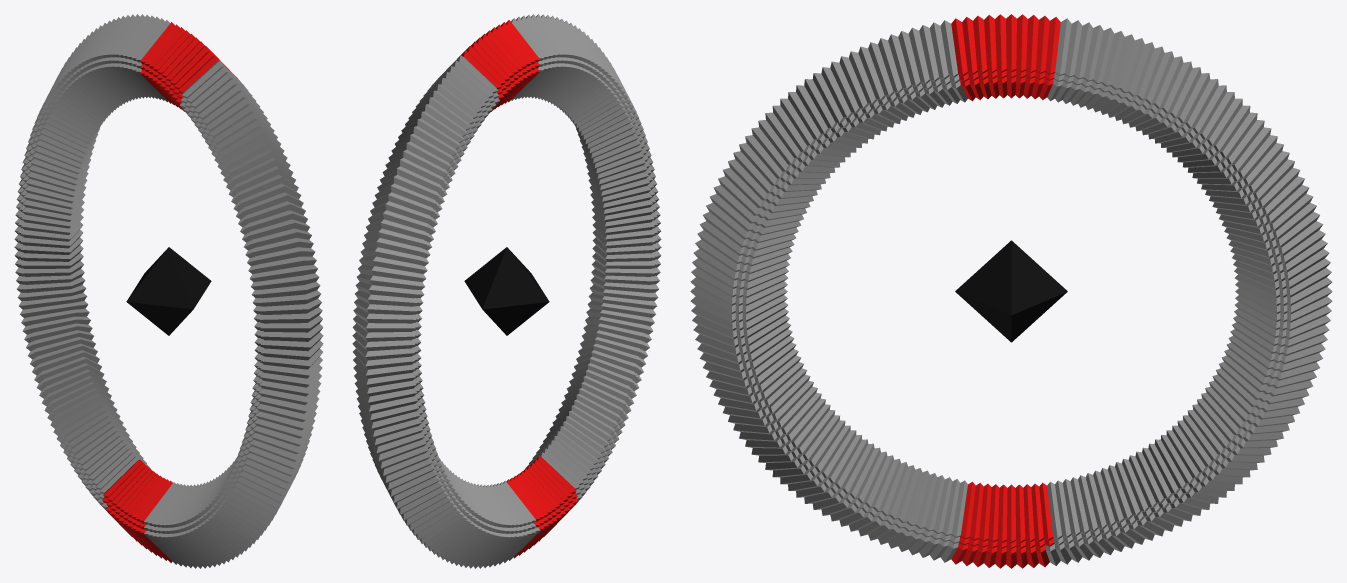
Rendered from local_feasible_centers.obj.
3 views of the same model, side by side, from view 1: azimuth 30°, elevation 25°; view 2: azimuth 150°, elevation 25°; view 3: azimuth 270°, elevation 25° (orthographic). The views are drawn at different scales.
Visible parts, largest first — view 1: rejected_candidates, feasible_candidates, target_point_000240; view 2: rejected_candidates, feasible_candidates, target_point_000240; view 3: rejected_candidates, feasible_candidates, target_point_000240.
Part boxes in pixels (x1,y1,x2,y2): rejected_candidates: [14, 14, 323, 568]; feasible_candidates: [102, 22, 240, 562]; target_point_000240: [126, 247, 211, 335]; rejected_candidates: [352, 14, 661, 568]; feasible_candidates: [446, 20, 578, 558]; target_point_000240: [464, 247, 549, 335]; rejected_candidates: [690, 18, 1332, 565]; feasible_candidates: [951, 14, 1060, 568]; target_point_000240: [955, 240, 1067, 342].
Size of the model in its own units: 0.00483 by 0.0229 by 0.023.
